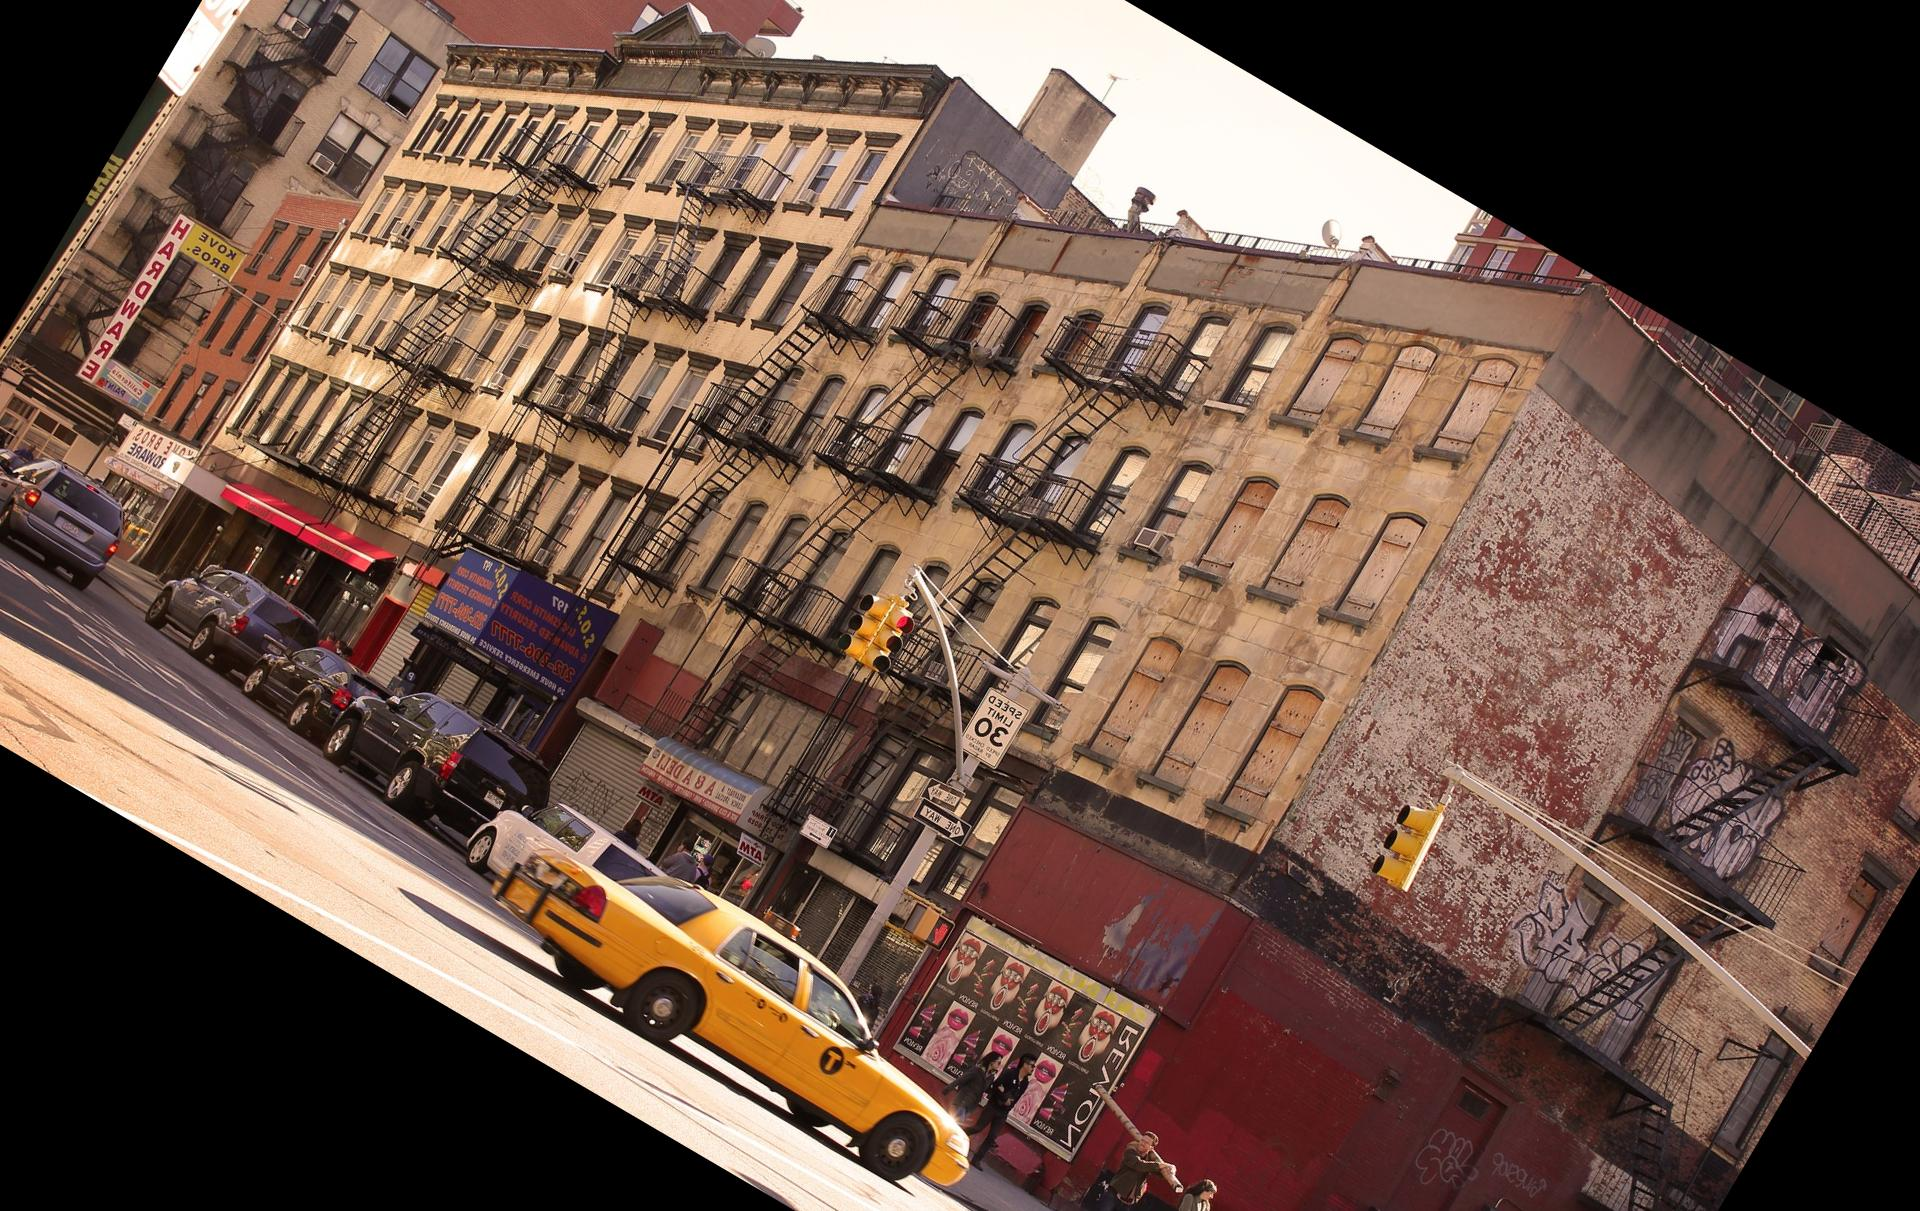taxi: (494, 827, 975, 1178)
